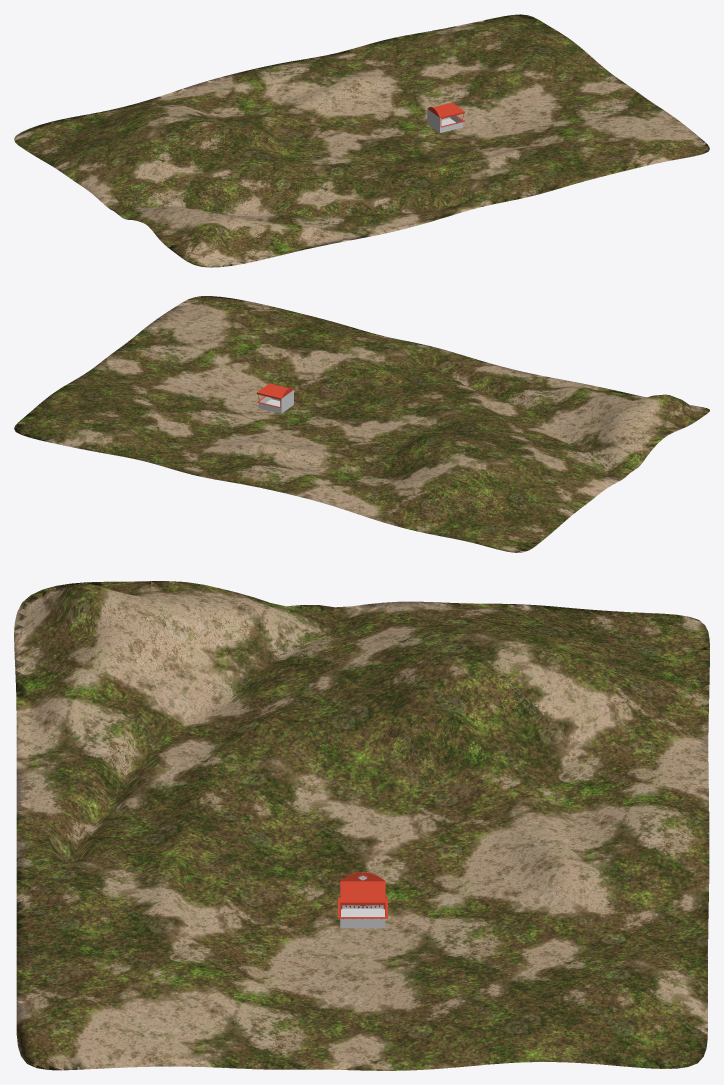
The model's file is stand.fbx.
3 views of the same model, one above another, from view 1: azimuth 30°, elevation 25°; view 2: azimuth 150°, elevation 25°; view 3: azimuth 270°, elevation 25° (orthographic). The views are drawn at different scales.
Parts seen in each view (by area): view 1: Plane.004; view 2: Plane.004; view 3: Plane.004, Cube, Cube.002.
Part boxes in pixels (left/top/right/bottom): Plane.004: left=14, top=14, right=709, bottom=267; Plane.004: left=14, top=296, right=709, bottom=552; Plane.004: left=14, top=581, right=709, bottom=1070; Cube: left=338, top=897, right=387, bottom=928; Cube.002: left=340, top=881, right=385, bottom=903.
Size of the model in its own units: 27806 by 2126 by 17764.
10 materials, 3 textured.
